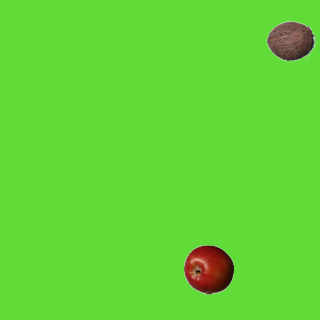Apple Braeburn: (183, 244, 233, 294)
Cocos: (265, 15, 315, 65)
